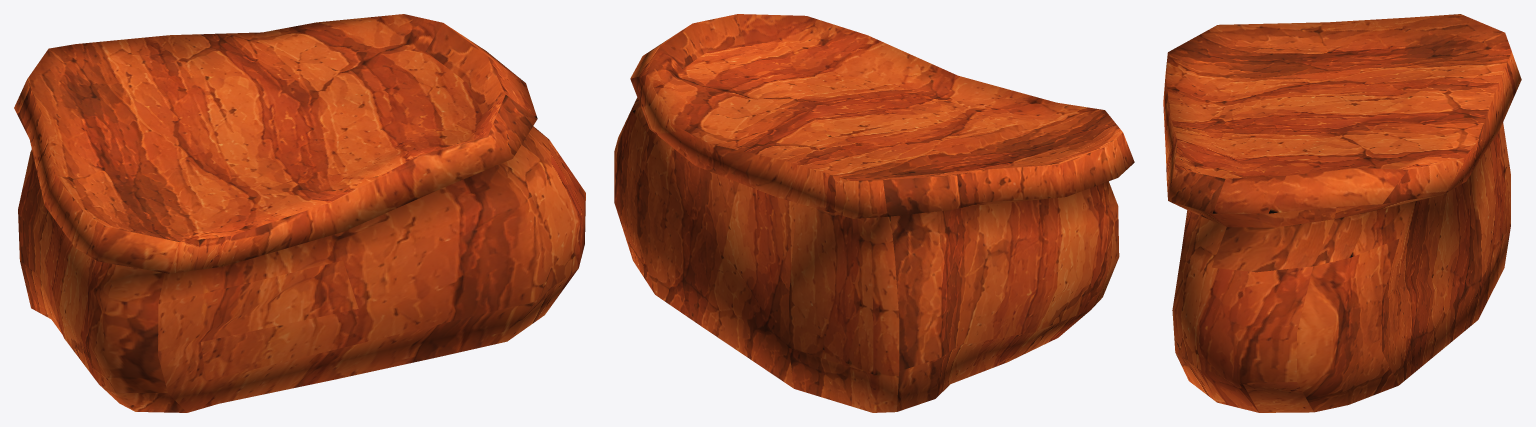
File: Rock1.fbx
The picture shows the model from 3 angles, left to right: view 1: azimuth 30°, elevation 25°; view 2: azimuth 150°, elevation 25°; view 3: azimuth 270°, elevation 25°; orthographic projection. The views are drawn at different scales.
Visible parts, largest first — view 1: Rock1; view 2: Rock1; view 3: Rock1.
Part boxes in pixels (x1,y1,x2,y2): Rock1: (14,14,585,412); Rock1: (614,14,1134,412); Rock1: (1163,14,1521,412).
Size of the model in its own units: 495 by 249 by 330.
Materials: 1 (1 with a texture image).
